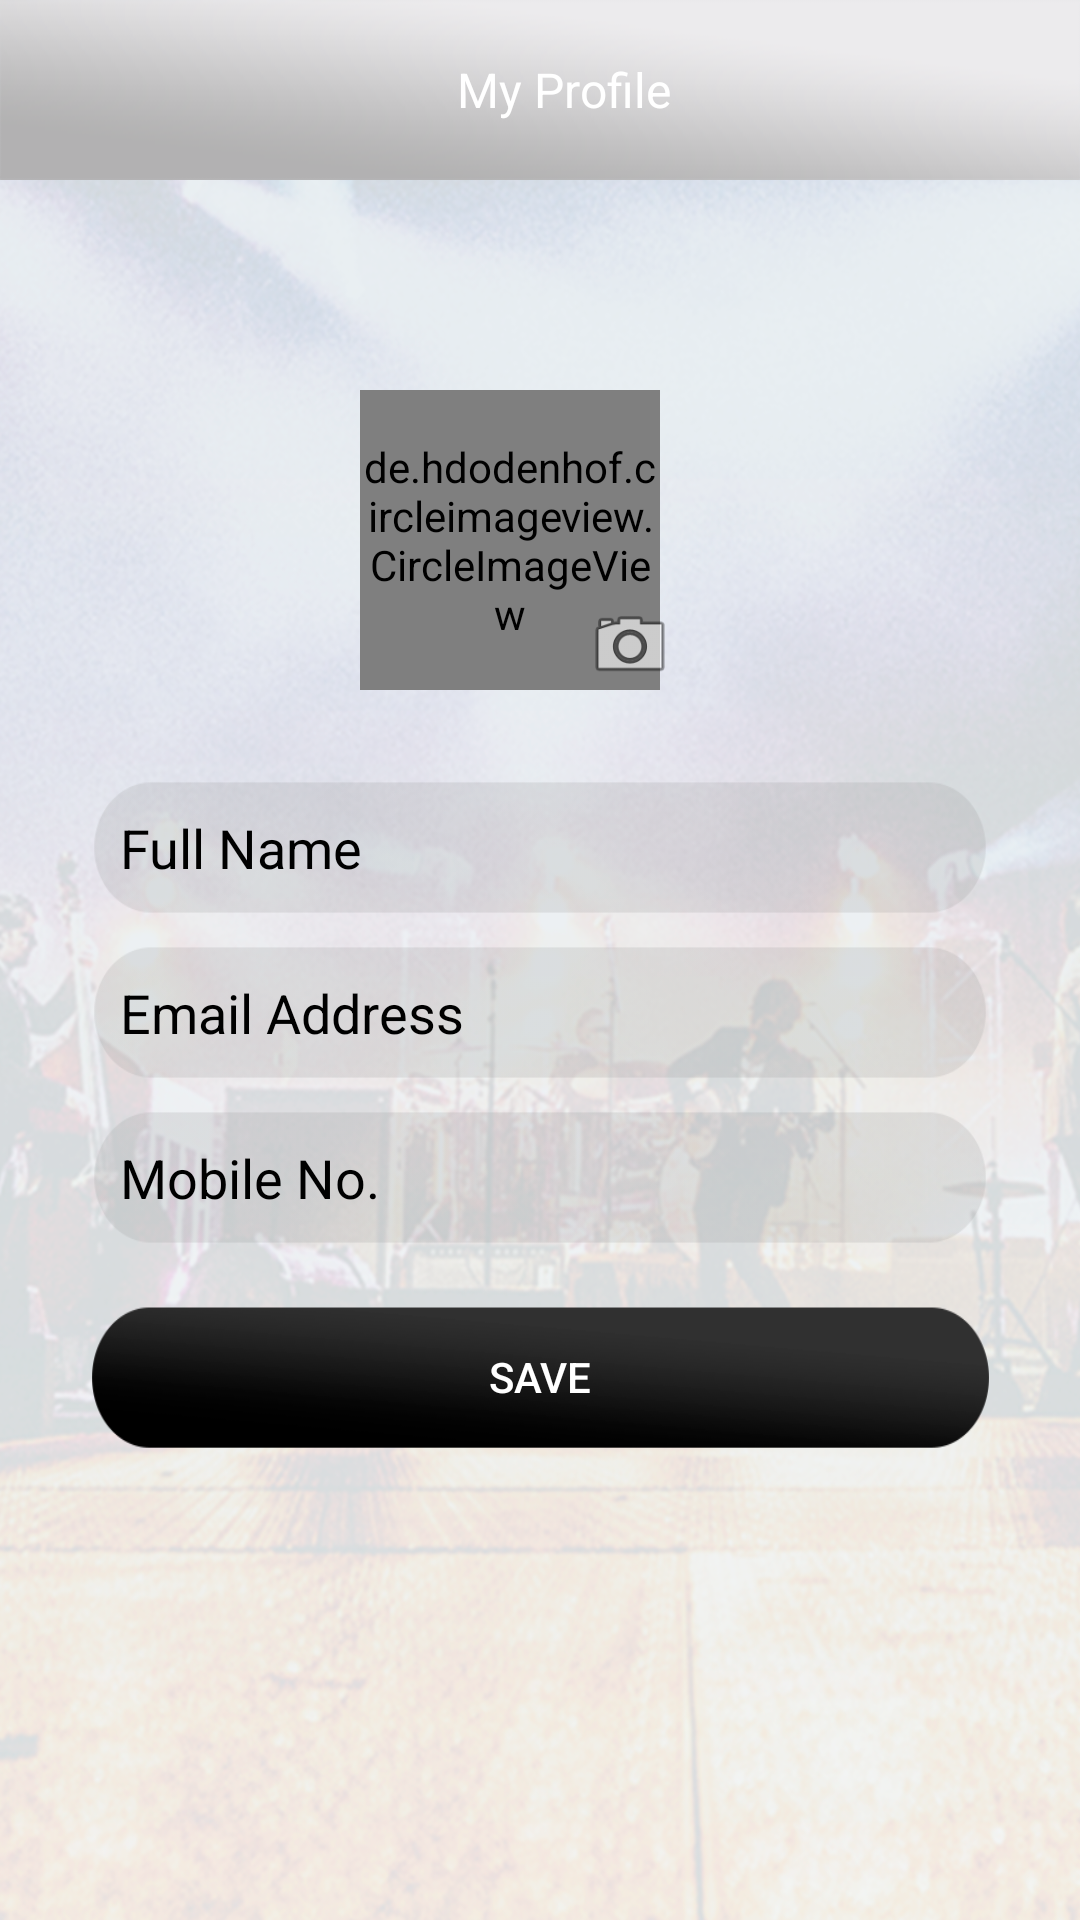

Icon click points for this 1080px x 1920px phone screenshot, format point (x, y):
camera: point (630, 645)
